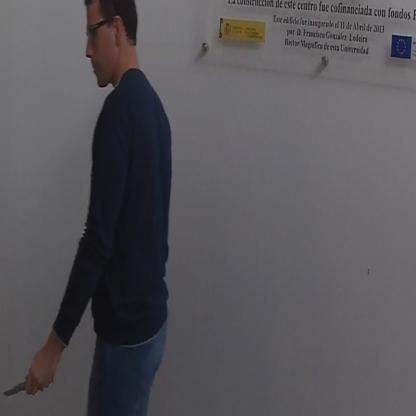knife: (0, 358, 52, 404)
